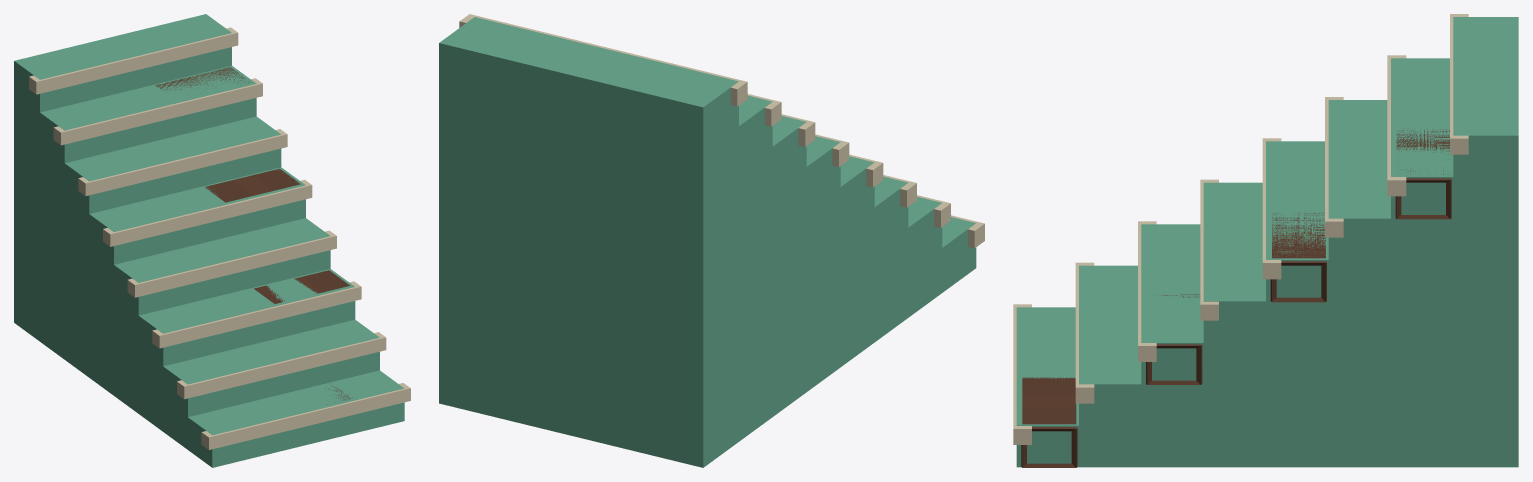
The model's file is stairs-crate-mint.glb.
The picture shows the model from 3 angles, left to right: view 1: azimuth 30°, elevation 25°; view 2: azimuth 150°, elevation 25°; view 3: azimuth 270°, elevation 25°; orthographic projection. The views are drawn at different scales.
Parts seen in each view (by area): view 1: stairs-crate-mint; view 2: stairs-crate-mint; view 3: stairs-crate-mint.
Boxes of the visible parts, left/top/right/bottom form: stairs-crate-mint: left=14, top=14, right=410, bottom=467; stairs-crate-mint: left=439, top=14, right=984, bottom=467; stairs-crate-mint: left=1013, top=14, right=1518, bottom=467.
Size of the model in its own units: 1.42 by 1.77 by 2.43.
